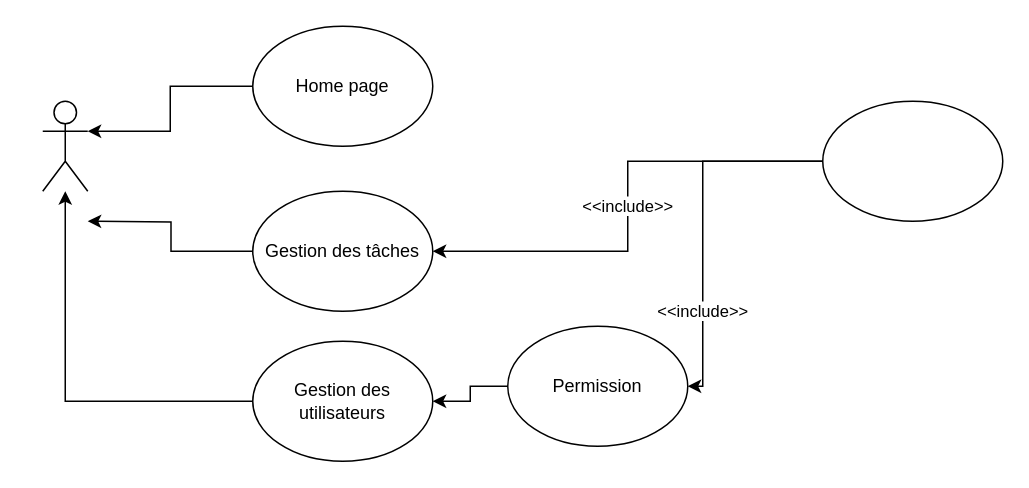
This 1029x488 diagram has some shape labels left out. The centre of each missing label's shape, as x and y in pixels:
"Authentification" goes at point (912, 160).
"Utilisateur" goes at point (64, 145).
